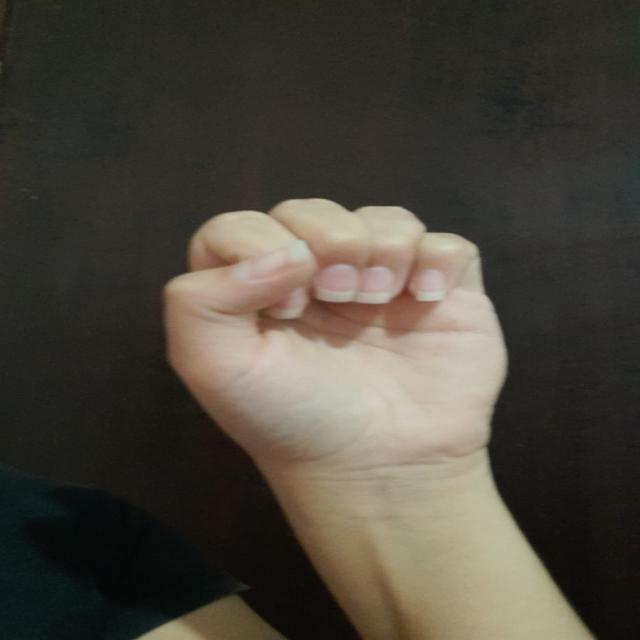S: (142, 196, 530, 454)
